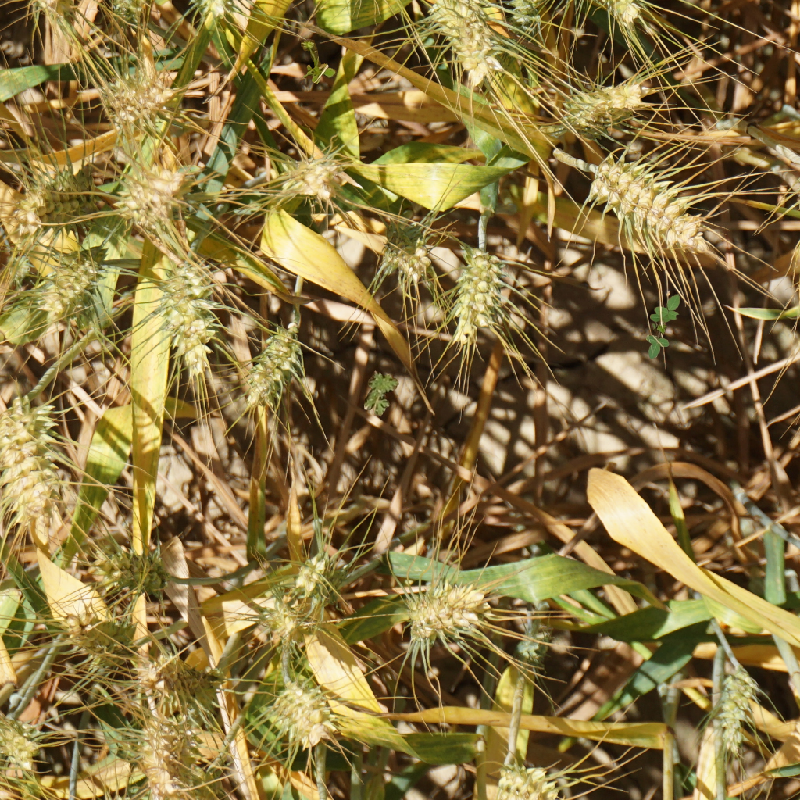spikelet: (586, 160, 710, 257), (1, 390, 73, 542), (157, 261, 225, 389), (546, 67, 661, 135), (446, 242, 511, 346), (398, 575, 502, 639), (425, 1, 503, 83), (17, 150, 96, 223), (268, 677, 346, 749), (140, 709, 200, 800), (78, 543, 167, 603), (278, 139, 349, 212), (114, 161, 189, 229), (246, 328, 309, 407), (61, 600, 137, 664), (377, 205, 435, 286), (52, 249, 115, 323), (100, 65, 172, 125), (710, 670, 767, 742), (1, 692, 52, 769), (257, 596, 315, 659), (140, 652, 202, 710), (300, 542, 350, 609), (513, 610, 558, 665), (492, 759, 546, 800), (505, 1, 553, 43), (1, 242, 34, 285), (105, 1, 159, 25), (179, 1, 231, 17), (604, 1, 638, 20)
weed: (350, 363, 409, 422), (296, 34, 339, 87), (646, 294, 680, 359)
